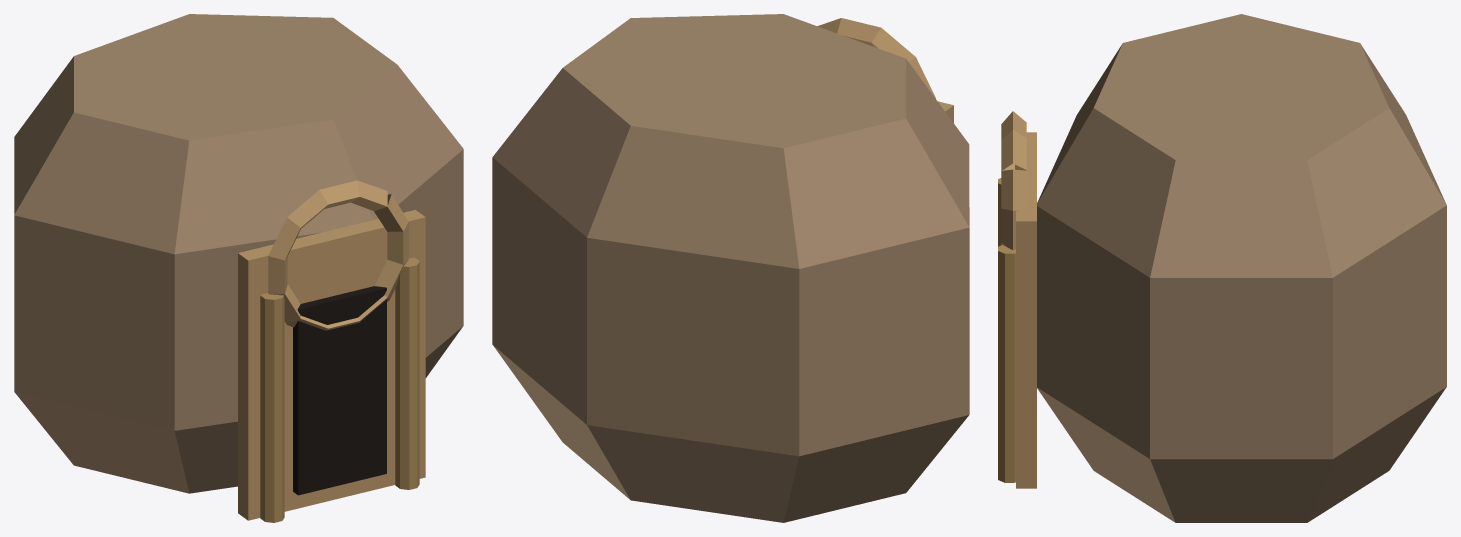
The model's file is cat_house_b_broken.glb.
The picture shows the model from 3 angles, left to right: view 1: azimuth 30°, elevation 25°; view 2: azimuth 150°, elevation 25°; view 3: azimuth 270°, elevation 25°; orthographic projection. The views are drawn at different scales.
Visible parts, largest first — view 1: cat_house_b_piece3, cat_house_b_piece4, cat_house_b_piece5, cat_house_b_piece0, cat_house_b_piece7, cat_house_b_piece10, cat_house_b_piece2, cat_house_b_piece1; view 2: cat_house_b_piece7, cat_house_b_piece1, cat_house_b_piece2, cat_house_b_piece5, cat_house_b_piece8, cat_house_b_piece9, cat_house_b_piece10, cat_house_b_piece3, cat_house_b_piece6, cat_house_b_piece0; view 3: cat_house_b_piece2, cat_house_b_piece8, cat_house_b_piece5, cat_house_b_piece0, cat_house_b_piece4, cat_house_b_piece10, cat_house_b_piece9, cat_house_b_piece6, cat_house_b_piece3, cat_house_b_piece1, cat_house_b_piece7.
Part boxes in pixels (x1,y1,x2,y2): cat_house_b_piece3: (60,83,307,522); cat_house_b_piece4: (165,128,425,507); cat_house_b_piece5: (96,32,455,259); cat_house_b_piece0: (261,112,426,357); cat_house_b_piece7: (14,47,97,430); cat_house_b_piece10: (75,51,306,196); cat_house_b_piece2: (140,14,463,366); cat_house_b_piece1: (46,289,142,482); cat_house_b_piece7: (681,132,969,498); cat_house_b_piece1: (572,172,934,522); cat_house_b_piece2: (492,48,724,215); cat_house_b_piece5: (590,14,784,162); cat_house_b_piece8: (492,160,575,407); cat_house_b_piece9: (515,166,650,379); cat_house_b_piece10: (761,27,903,142); cat_house_b_piece3: (843,60,969,200); cat_house_b_piece6: (538,400,617,488); cat_house_b_piece0: (782,14,902,54); cat_house_b_piece2: (1087,79,1422,459); cat_house_b_piece8: (1120,255,1433,505); cat_house_b_piece5: (1035,54,1380,349); cat_house_b_piece0: (998,89,1125,460); cat_house_b_piece4: (998,39,1164,488); cat_house_b_piece10: (1080,29,1358,120); cat_house_b_piece9: (1354,157,1446,360); cat_house_b_piece6: (1093,384,1430,522); cat_house_b_piece3: (998,14,1300,246); cat_house_b_piece1: (1374,102,1446,479); cat_house_b_piece7: (1299,28,1427,163).
Bounding box in the file's own units: 2.28 × 1.9 × 2.13.
